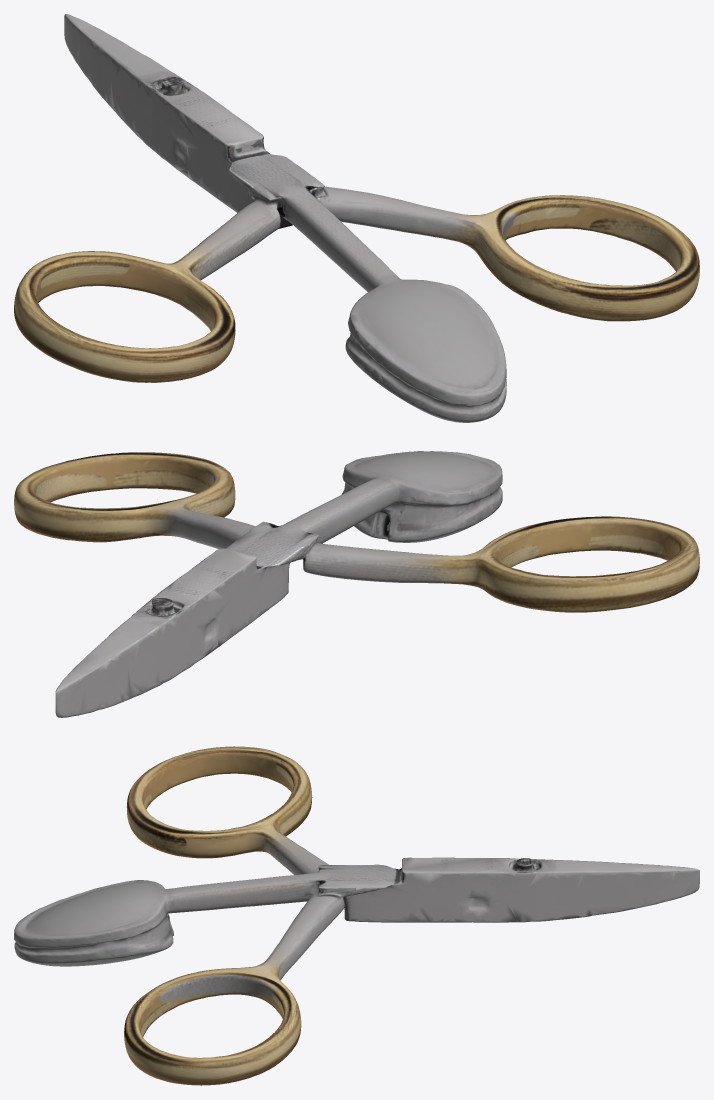
Rendered from vet_equip_needle_holder.glb.
The picture shows the model from 3 angles, top to bottom: view 1: azimuth 30°, elevation 25°; view 2: azimuth 150°, elevation 25°; view 3: azimuth 270°, elevation 25°; orthographic projection. The views are drawn at different scales.
Parts seen in each view (by area): view 1: model; view 2: model; view 3: model.
Boxes of the visible parts, x1,y1,x2,y2 form: model: (14,14,699,422); model: (14,451,699,717); model: (14,746,699,1085).
Size of the model in its own units: 1.7 by 0.3053 by 1.9.
Materials: 1 (1 with a texture image).
